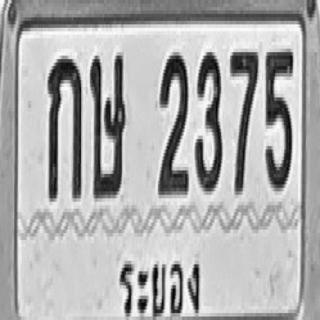A01: (47, 56, 82, 198)
A39: (89, 52, 125, 198)
N02: (157, 51, 188, 193)
N03: (194, 49, 222, 191)
N05: (265, 47, 293, 190)
N07: (229, 49, 258, 195)
P53: (114, 247, 203, 320)
